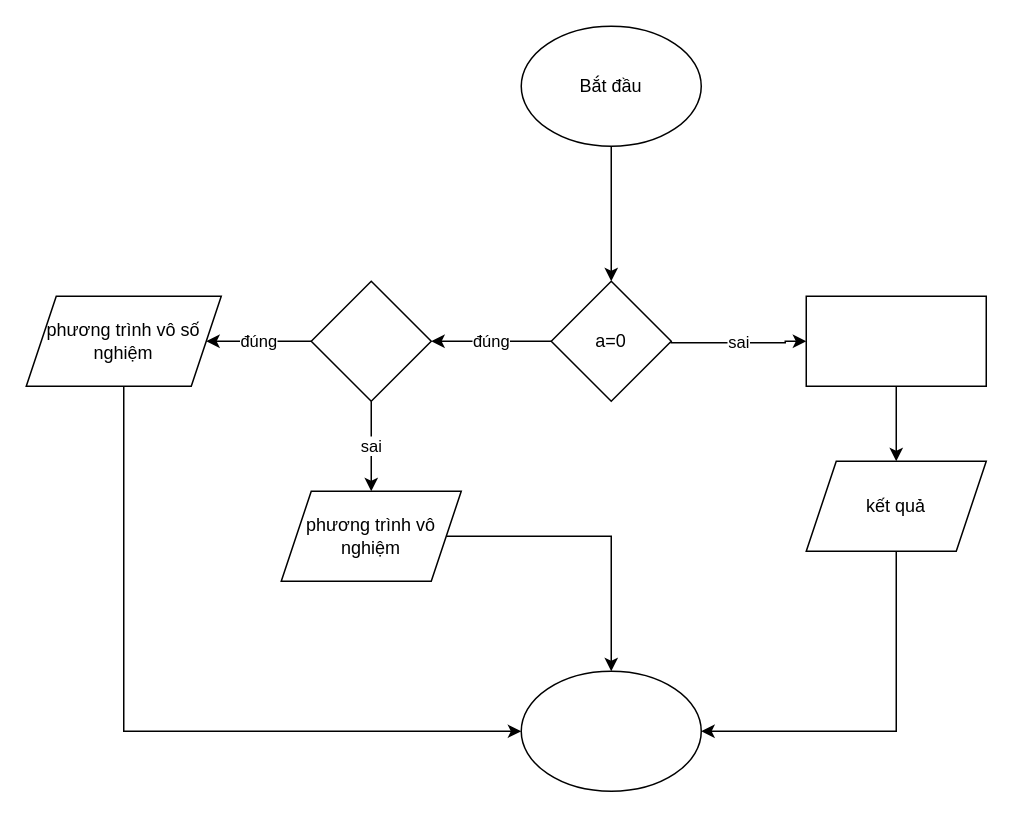
Image size: 1013x818. Some labels were removed from this diagram. Each missing label, with the centre of its shape:
b=0: the point at 370,340
kết thúc: the point at 610,730
x=-b/a: the point at 895,340
